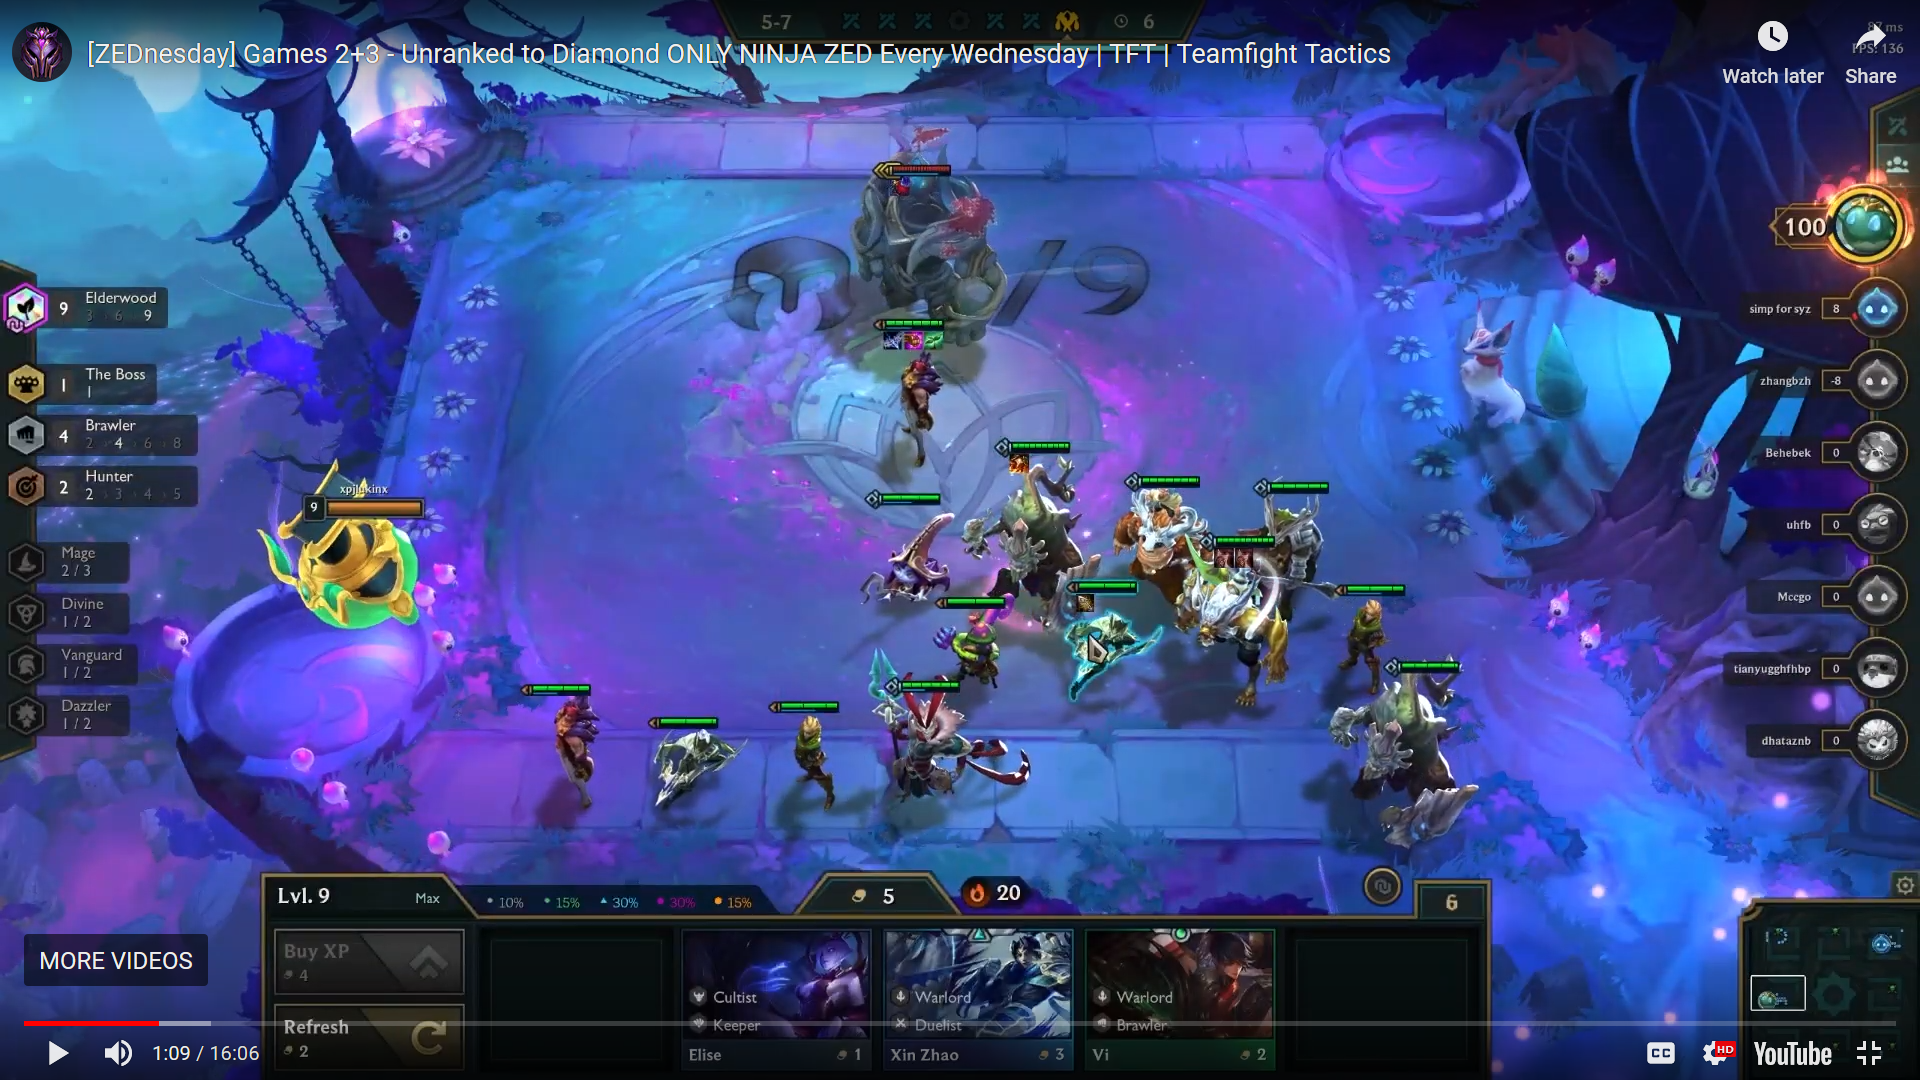1star_ashe: (1048, 572, 1178, 717), (628, 691, 756, 833)
1star_ezreal: (745, 688, 862, 828), (1308, 574, 1420, 716)
1star_sett: (502, 673, 621, 837), (858, 306, 964, 487)
1star_veigar: (920, 582, 1025, 711)
2star_azir: (853, 640, 1050, 833)
2star_hecarim: (1160, 462, 1349, 634)
2star_lulu: (851, 468, 969, 622)
2star_maokai: (1304, 637, 1491, 862), (955, 429, 1110, 644)
2star_maokai_chosen: (953, 426, 1108, 642)
2star_nunu: (1100, 452, 1228, 622)
2star_warwick: (1164, 529, 1308, 727)
item_elderwood: (920, 326, 949, 355)
item_ie: (1071, 588, 1098, 617)
item_jeweledgauntlet: (899, 324, 928, 353)
item_shroud: (886, 171, 914, 200)
item_spark: (880, 324, 909, 353)
item_sunfire: (1005, 448, 1033, 477)
item_zeke: (1209, 543, 1237, 572), (1229, 541, 1257, 568)
trait_brawler4: (1, 407, 211, 460)
trait_dazzler1: (1, 688, 211, 740)
trait_divine1: (1, 585, 211, 637)
trait_elderwood9: (1, 281, 211, 334)
trait_elderwood_chosen: (1, 281, 53, 336)
trait_hunter2: (1, 458, 211, 509)
trait_mage2: (1, 537, 211, 589)
trait_theboss1: (1, 357, 211, 410)
trait_vanguard1: (1, 637, 211, 688)
